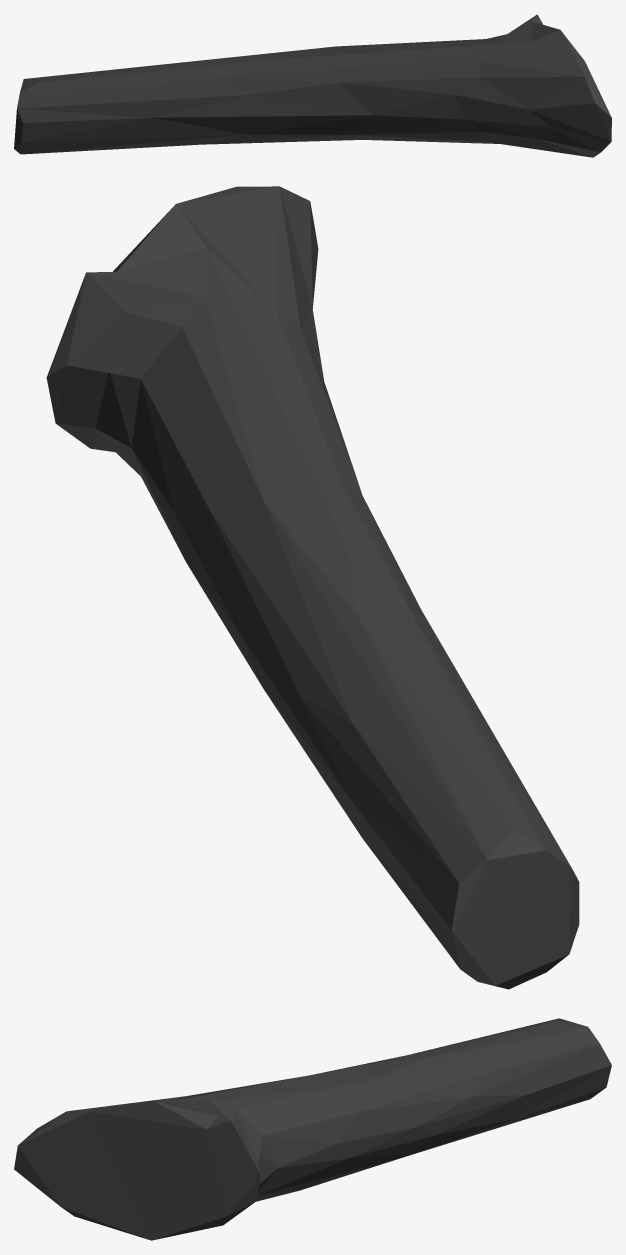
Rendered from Gonadal_vv_R.glb.
3 views of the same model, one above another, from view 1: azimuth 30°, elevation 25°; view 2: azimuth 150°, elevation 25°; view 3: azimuth 270°, elevation 25° (orthographic). The views are drawn at different scales.
Parts seen in each view (by area): view 1: Gonadal_vv_R; view 2: Gonadal_vv_R; view 3: Gonadal_vv_R.
Part boxes in pixels (x1,y1,x2,y2): Gonadal_vv_R: (14, 14, 611, 157); Gonadal_vv_R: (46, 186, 579, 989); Gonadal_vv_R: (14, 1018, 611, 1240).
Bounding box in the file's own units: 0.097 × 0.0406 × 0.1131.
Materials: 1 (1 with a texture image).
